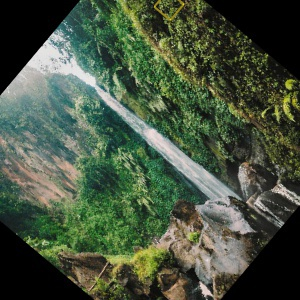square: (152, 1, 187, 22)
